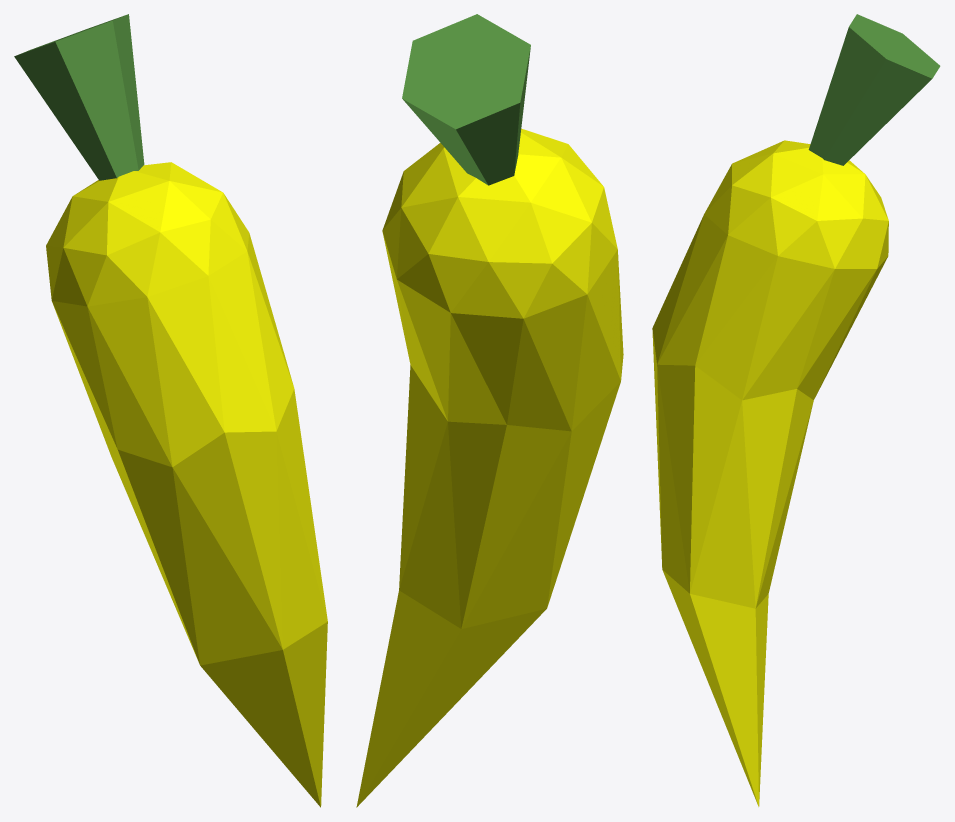
Rendered from yellow_pepper.fbx.
3 renders of one model, left to right at view 1: azimuth 30°, elevation 25°; view 2: azimuth 150°, elevation 25°; view 3: azimuth 270°, elevation 25°, orthographic. The views are drawn at different scales.
Visible parts, largest first — view 1: yellow_pepper; view 2: yellow_pepper; view 3: yellow_pepper.
Part boxes in pixels (x1,y1,x2,y2): yellow_pepper: [14, 14, 327, 807]; yellow_pepper: [356, 14, 623, 807]; yellow_pepper: [652, 14, 940, 806].
Size of the model in its own units: 23.94 by 75.71 by 27.79.
Materials: 1 (1 with a texture image).
